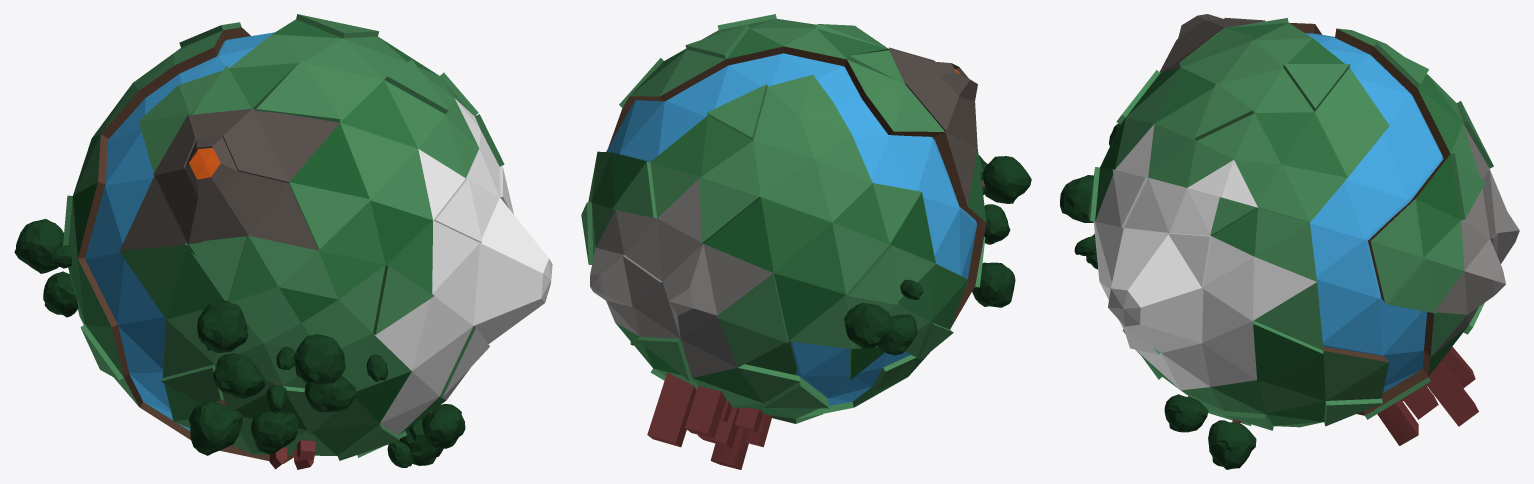
Rendered from Planeet - 1.fbx.
The picture shows the model from 3 angles, left to right: view 1: azimuth 30°, elevation 25°; view 2: azimuth 150°, elevation 25°; view 3: azimuth 270°, elevation 25°; orthographic projection. The views are drawn at different scales.
Parts seen in each view (by area): view 1: Aarde, Water, Sphere_2_6, Sphere_2_3, Sphere_2_12, Sphere_2_9, Sphere_2, Sphere_2_4, Sphere_2_13, Sphere_2_10, Sphere_2_7, Sphere_2_15; view 2: Aarde, Water, Cube_5, Sphere_2_3, Sphere_2_9, Sphere_2_6, Cube_6, Sphere_2_7, Cube_2_3, Sphere_2, Cube_1_2, Cube_4; view 3: Aarde, Water, Sphere_2_15, Cube_5, Sphere_2_13, Sphere_2_12, Cube_2_3, Cube_1_2, Cube_6.
Boxes of the visible parts, left/top/right/bottom form: Aarde: left=63, top=14, right=552, bottom=463; Water: left=85, top=32, right=274, bottom=430; Sphere_2_6: left=189, top=401, right=242, bottom=455; Sphere_2_3: left=197, top=300, right=247, bottom=352; Sphere_2_12: left=294, top=334, right=345, bottom=384; Sphere_2_9: left=14, top=219, right=63, bottom=273; Sphere_2: left=213, top=353, right=265, bottom=398; Sphere_2_4: left=251, top=411, right=298, bottom=454; Sphere_2_13: left=422, top=404, right=465, bottom=448; Sphere_2_10: left=304, top=375, right=356, bottom=412; Sphere_2_7: left=43, top=271, right=78, bottom=317; Sphere_2_15: left=399, top=417, right=443, bottom=465; Aarde: left=581, top=14, right=986, bottom=423; Water: left=606, top=53, right=976, bottom=405; Cube_5: left=647, top=372, right=696, bottom=447; Sphere_2_3: left=983, top=156, right=1031, bottom=203; Sphere_2_9: left=844, top=302, right=891, bottom=348; Sphere_2_6: left=972, top=262, right=1015, bottom=307; Cube_6: left=685, top=385, right=726, bottom=438; Sphere_2_7: left=877, top=314, right=917, bottom=355; Cube_2_3: left=710, top=427, right=748, bottom=469; Sphere_2: left=984, top=204, right=1010, bottom=244; Cube_1_2: left=698, top=407, right=739, bottom=447; Cube_4: left=735, top=407, right=763, bottom=432; Aarde: left=1088, top=14, right=1519, bottom=430; Water: left=1305, top=33, right=1443, bottom=392; Sphere_2_15: left=1208, top=420, right=1256, bottom=469; Cube_5: left=1426, top=360, right=1478, bottom=426; Sphere_2_13: left=1164, top=394, right=1208, bottom=432; Sphere_2_12: left=1060, top=175, right=1093, bottom=222; Cube_2_3: left=1377, top=399, right=1418, bottom=445; Cube_1_2: left=1402, top=386, right=1438, bottom=419; Cube_6: left=1441, top=346, right=1475, bottom=388.
Bounding box in the file's own units: 503 × 541 × 565.
